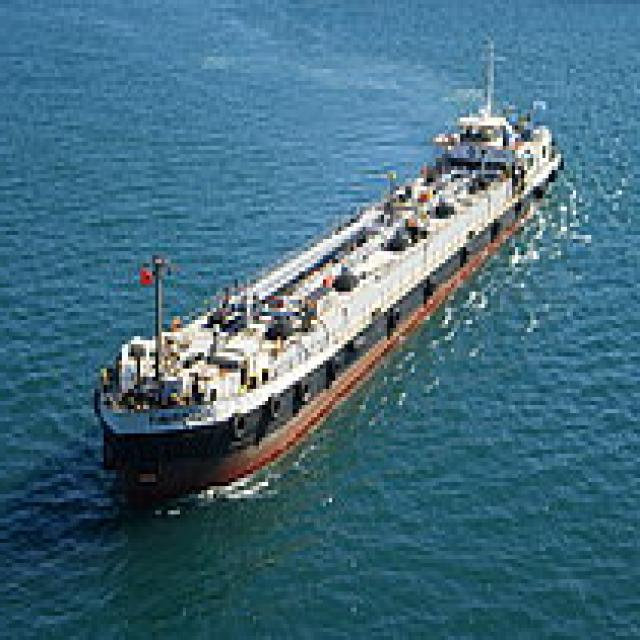Tanker: (88, 36, 567, 502)
